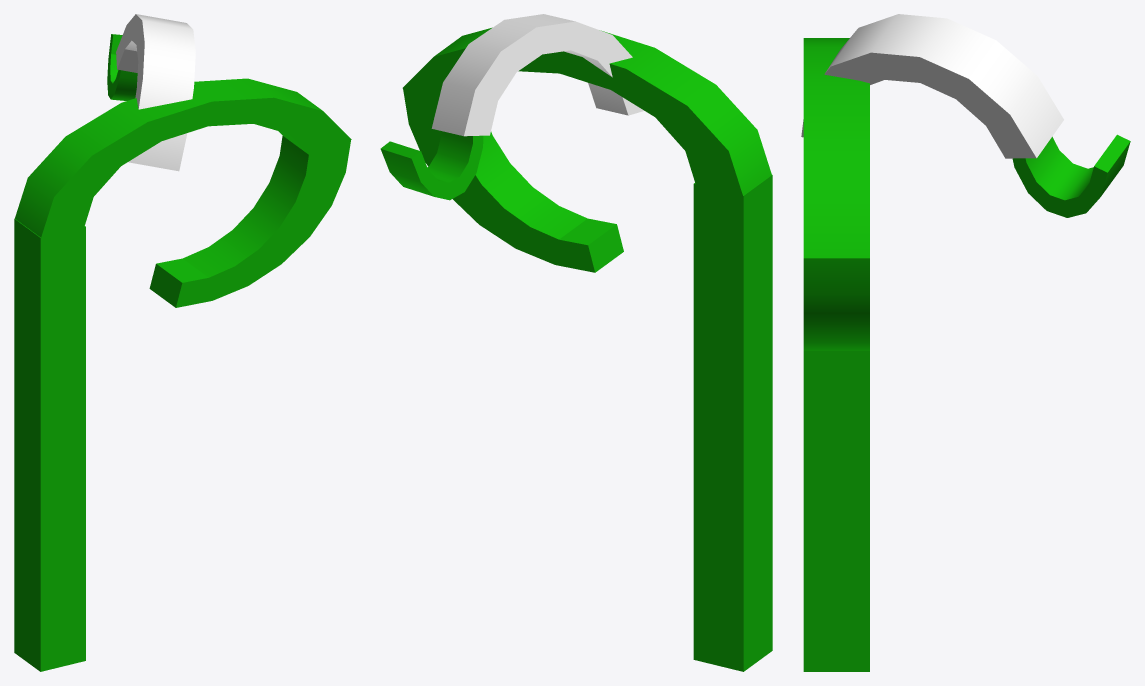
Rendered from Vine 2.fbx.
3 renders of one model, left to right at view 1: azimuth 30°, elevation 25°; view 2: azimuth 150°, elevation 25°; view 3: azimuth 270°, elevation 25°, orthographic. The views are drawn at different scales.
Parts seen in each view (by area): view 1: Cube, Arch, Arch__2_, Arch__10_, Arch__11_; view 2: Cube, Arch, Arch__2_, Arch__10_, Arch__11_; view 3: Cube, Arch__10_, Arch, Arch__2_, Arch__11_.
Boxes of the visible parts, box(x1,y1,x2,y2) form: Cube: box(14, 218, 85, 671); Arch: box(15, 78, 351, 238); Arch__2_: box(149, 136, 350, 307); Arch__10_: box(116, 14, 195, 171); Arch__11_: box(107, 34, 137, 100); Cube: box(693, 175, 772, 671); Arch: box(402, 27, 771, 195); Arch__2_: box(403, 88, 623, 272); Arch__10_: box(431, 14, 644, 136); Arch__11_: box(380, 131, 483, 200); Cube: box(803, 351, 869, 671); Arch__10_: box(801, 14, 1063, 158); Arch: box(803, 38, 869, 258); Arch__2_: box(803, 258, 869, 350); Arch__11_: box(1012, 134, 1130, 217).
Size of the model in its own units: 683 by 1198 by 494.
